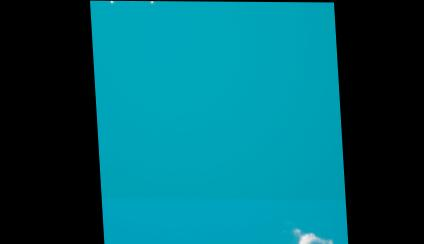boat: (104, 1, 159, 29)
drone: (113, 1, 150, 11)
land_base: (263, 220, 341, 244)
